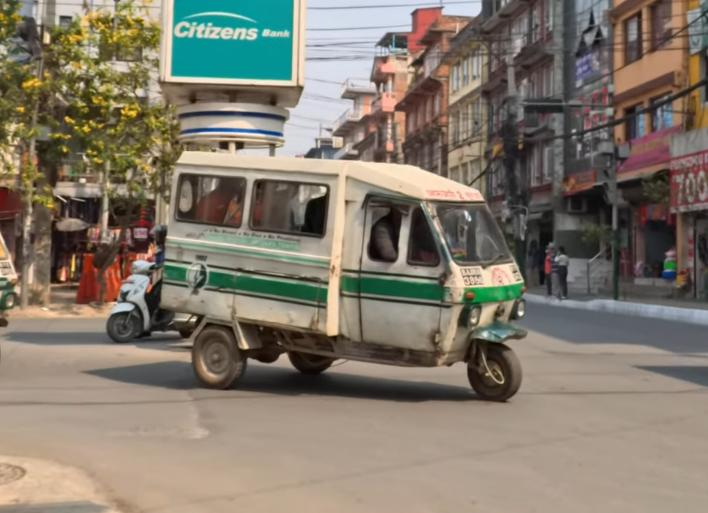scooter: (106, 247, 167, 345)
tempo: (158, 144, 536, 412)
